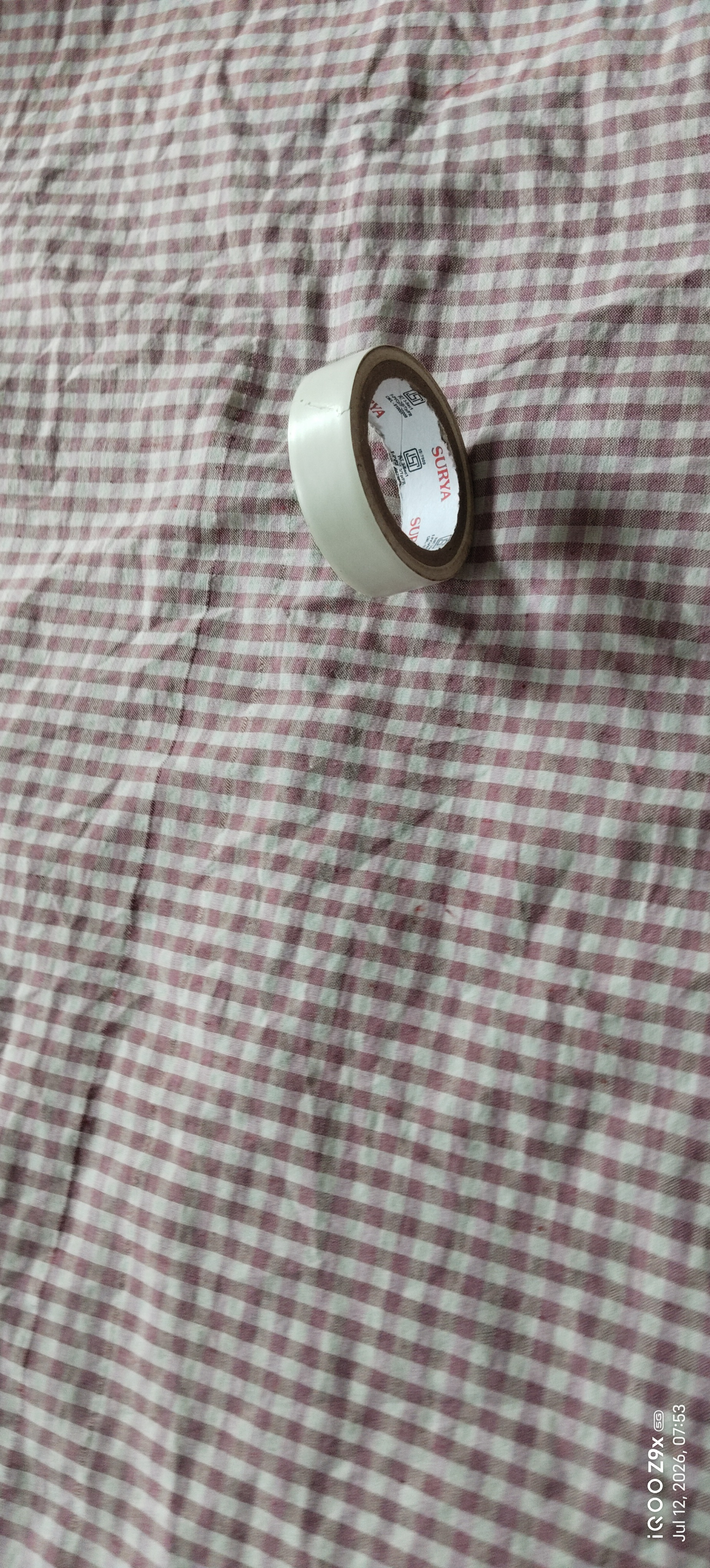tape_roll: (269, 328, 507, 617)
